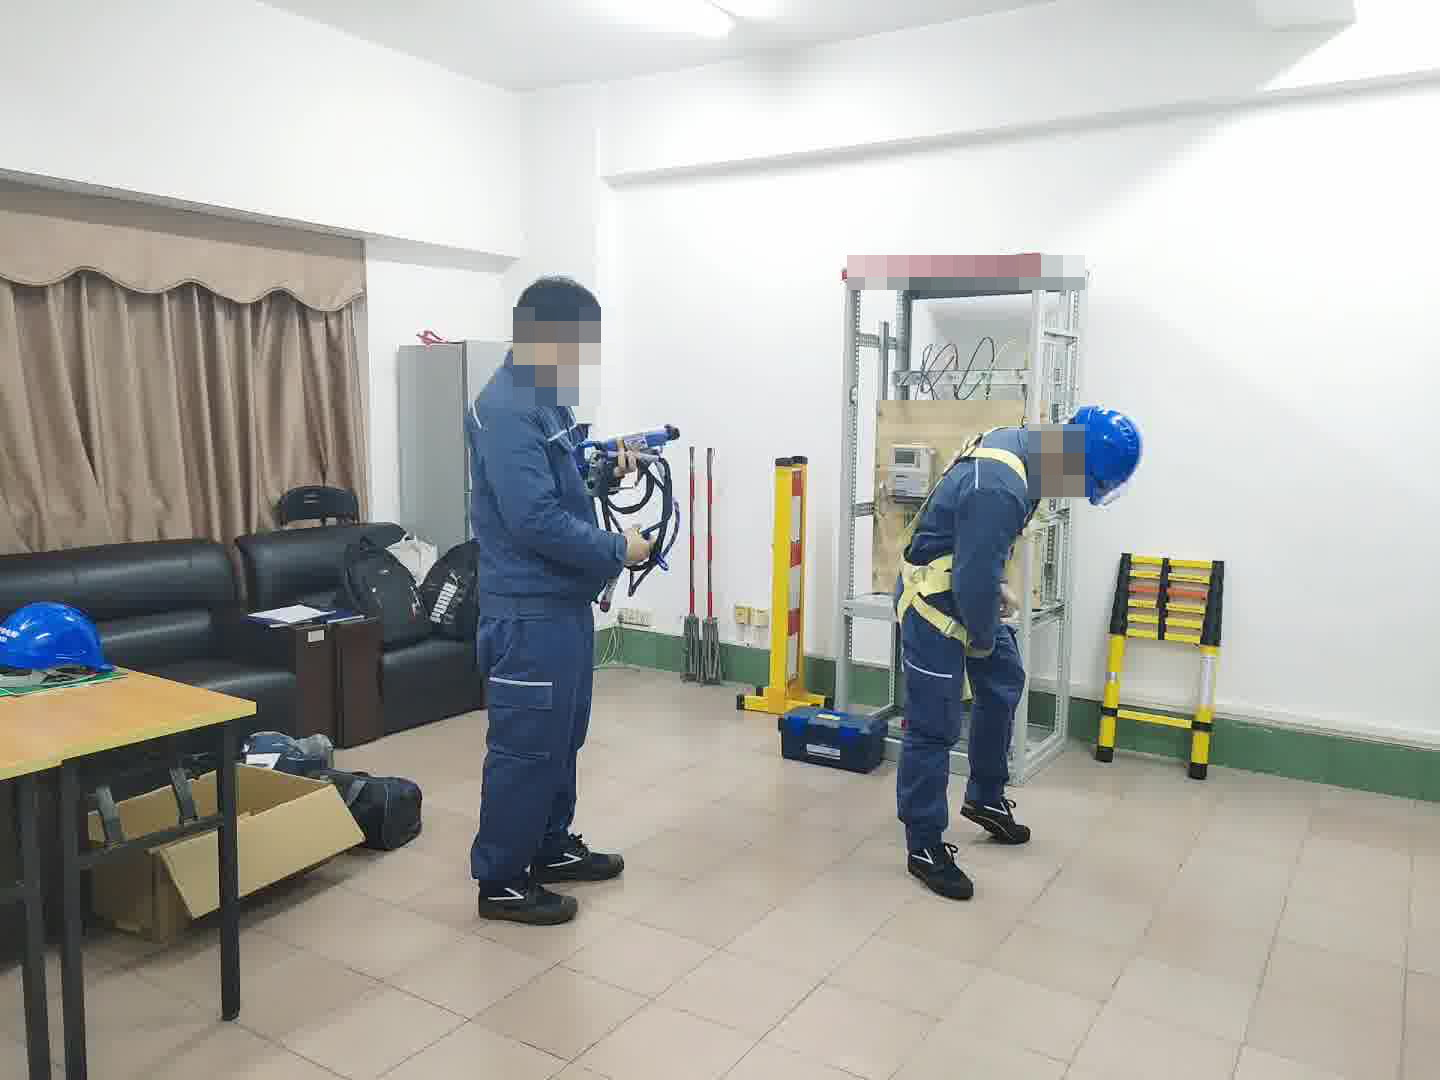downsuit: (470, 623, 599, 878), (894, 618, 1023, 832)
halt: (1046, 404, 1145, 505)
hand: (615, 518, 656, 565), (998, 576, 1017, 625)
inear: (1035, 433, 1085, 478)
noear: (515, 317, 558, 377)
person: (887, 398, 1147, 893), (458, 269, 643, 918)
safebelt: (889, 422, 1037, 699)
unhalt: (510, 272, 606, 378)
upsuit: (461, 358, 628, 600), (882, 424, 1042, 629)
